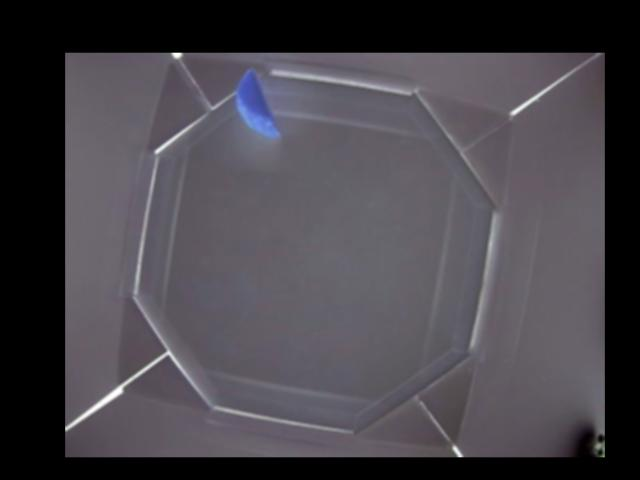Potato: (237, 69, 281, 137)
